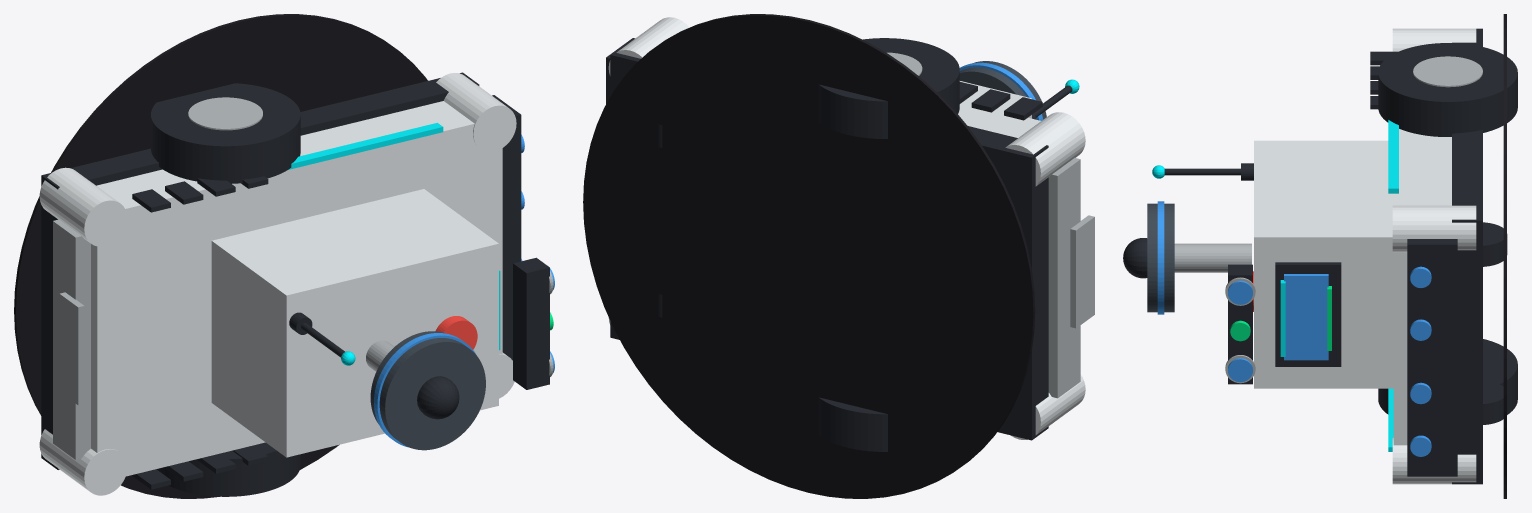
Rendered from smart_mobile_robot_under_10mb.glb.
3 views of the same model, side by side, from view 1: azimuth 30°, elevation 25°; view 2: azimuth 150°, elevation 25°; view 3: azimuth 270°, elevation 25° (orthographic). The views are drawn at different scales.
Visible parts, largest first — view 1: main_low_profile_chassis, upper_electronics_tower, subtle_round_shadow_base, right_large_rubber_drive_wheel, top_360_degree_lidar_puck, black_undercarriage_shadow_band, rear_service_panel, front_depth_camera_bar, rounded_chassis_corner_-1.08_0.66, left_large_rubber_drive_wheel, front_sensor_bumper, rounded_chassis_corner_1.08_0.66 (+7 smaller); view 2: subtle_round_shadow_base, black_undercarriage_shadow_band, rear_service_panel, right_large_rubber_drive_wheel, rounded_chassis_corner_-1.08_0.66, left_large_rubber_drive_wheel, rear_docking_charging_plate, main_low_profile_chassis, top_360_degree_lidar_puck, rounded_chassis_corner_-1.08_-0.66, rounded_chassis_corner_1.08_0.66, right_cooling_vent_1 (+2 smaller); view 3: upper_electronics_tower, front_sensor_bumper, right_large_rubber_drive_wheel, black_undercarriage_shadow_band, main_low_profile_chassis, front_touch_display_blue_ui, rounded_chassis_corner_1.08_0.66, front_touch_display_black_glass, top_360_degree_lidar_puck, vertical_sensor_mast, subtle_round_shadow_base, right_aluminum_wheel_hub (+13 smaller).
Part boxes in pixels (x1,y1,x2,y2): main_low_profile_chassis: [91, 101, 502, 476]; upper_electronics_tower: [211, 189, 498, 457]; subtle_round_shadow_base: [14, 14, 427, 498]; right_large_rubber_drive_wheel: [151, 83, 300, 183]; top_360_degree_lidar_puck: [370, 331, 485, 450]; black_undercarriage_shadow_band: [41, 72, 479, 469]; rear_service_panel: [53, 219, 90, 459]; front_depth_camera_bar: [513, 257, 549, 389]; rounded_chassis_corner_-1.08_0.66: [39, 167, 127, 246]; left_large_rubber_drive_wheel: [156, 442, 300, 496]; front_sensor_bumper: [492, 95, 521, 360]; rounded_chassis_corner_1.08_0.66: [436, 73, 516, 151]; subtle_round_shadow_base: [583, 14, 1035, 498]; black_undercarriage_shadow_band: [610, 43, 1048, 440]; rear_service_panel: [1048, 158, 1080, 398]; right_large_rubber_drive_wheel: [818, 38, 959, 138]; rounded_chassis_corner_-1.08_0.66: [1005, 112, 1085, 186]; left_large_rubber_drive_wheel: [818, 397, 887, 451]; rear_docking_charging_plate: [1070, 215, 1094, 328]; main_low_profile_chassis: [958, 102, 1040, 137]; top_360_degree_lidar_puck: [959, 61, 1046, 119]; rounded_chassis_corner_-1.08_-0.66: [1011, 374, 1085, 439]; rounded_chassis_corner_1.08_0.66: [608, 17, 689, 75]; right_cooling_vent_1: [971, 89, 1010, 112]; upper_electronics_tower: [1254, 140, 1393, 388]; front_sensor_bumper: [1407, 239, 1457, 476]; right_large_rubber_drive_wheel: [1378, 43, 1517, 136]; black_undercarriage_shadow_band: [1452, 28, 1482, 484]; main_low_profile_chassis: [1393, 129, 1451, 445]; front_touch_display_blue_ui: [1284, 274, 1328, 360]; rounded_chassis_corner_1.08_0.66: [1392, 205, 1476, 252]; front_touch_display_black_glass: [1275, 262, 1341, 366]; top_360_degree_lidar_puck: [1147, 203, 1174, 312]; vertical_sensor_mast: [1174, 243, 1251, 272]; subtle_round_shadow_base: [1503, 14, 1506, 498]; right_aluminum_wheel_hub: [1413, 56, 1482, 87].
Bounding box in the file's own units: 2.55 × 2.5 × 2.04.
